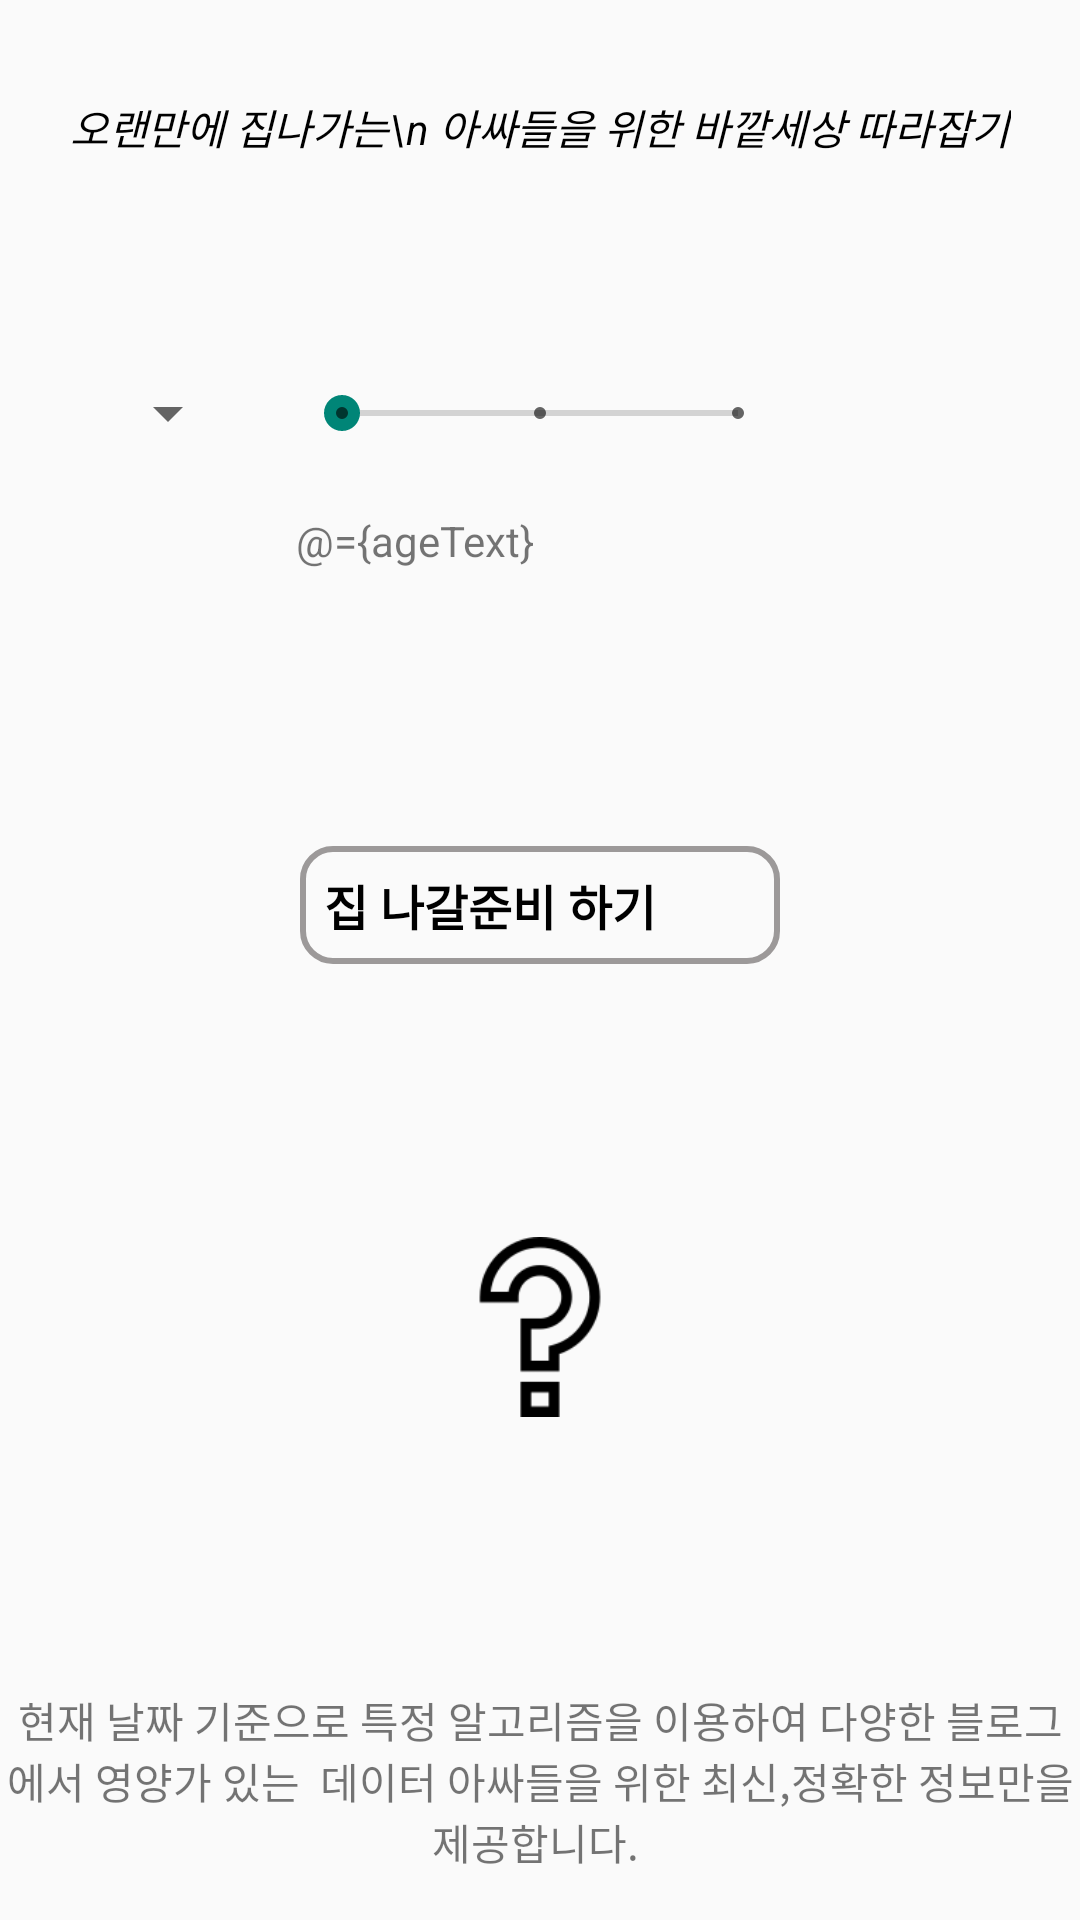

Point at icon controls on the screen. Image size 1080x1920, points as [x,y].
question: [540,1327]
